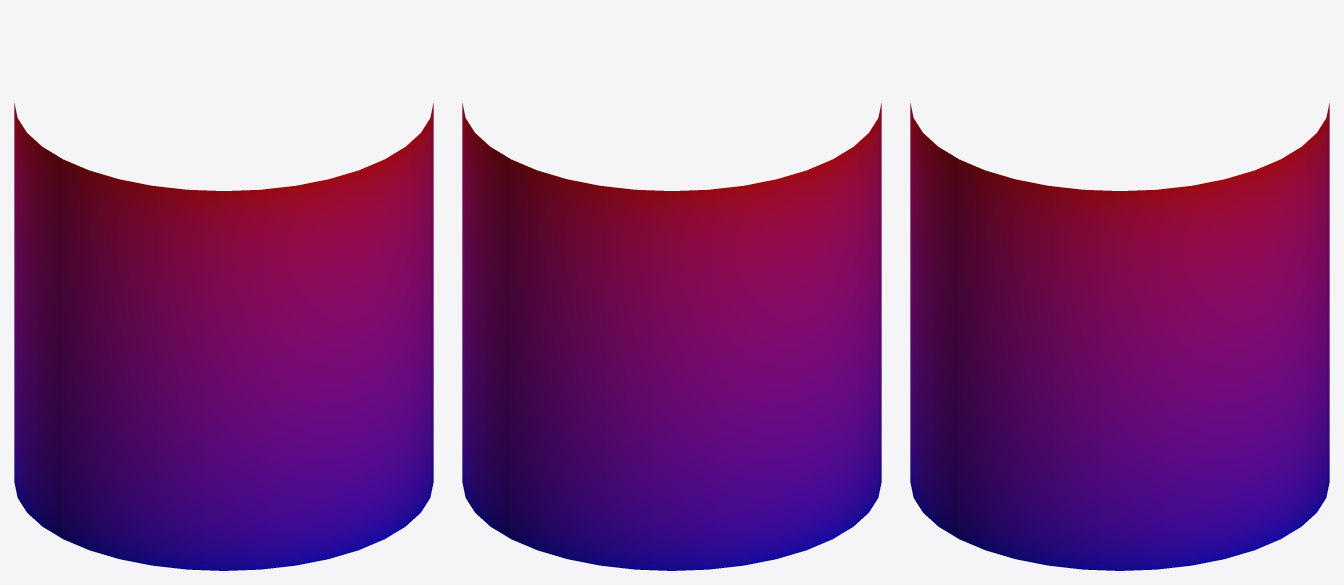
File: light_color.glb
3 views of the same model, side by side, from view 1: azimuth 30°, elevation 25°; view 2: azimuth 150°, elevation 25°; view 3: azimuth 270°, elevation 25° (orthographic).
Parts seen in each view (by area): view 1: light_MESH; view 2: light_MESH; view 3: light_MESH.
Boxes of the visible parts, x1,y1,x2,y2 form: light_MESH: [14, 103, 433, 570]; light_MESH: [462, 103, 881, 570]; light_MESH: [910, 103, 1329, 570].
Size of the model in its own units: 2 by 2 by 2.
